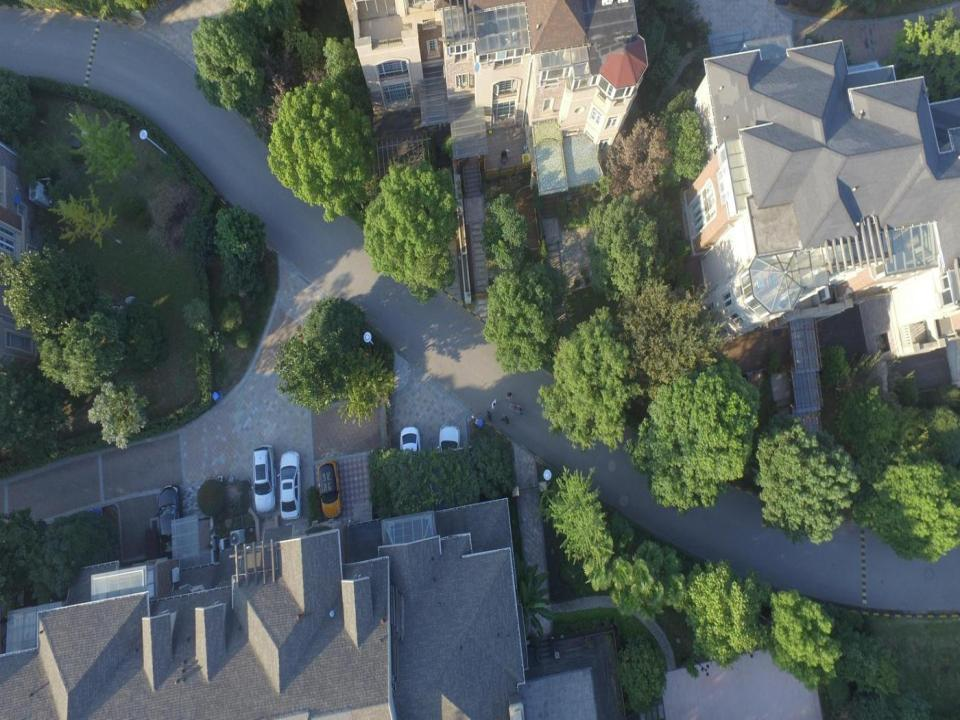car: (251, 443, 276, 516), (279, 450, 303, 522), (156, 483, 179, 556), (437, 423, 462, 482), (318, 460, 342, 516), (399, 426, 421, 481)
